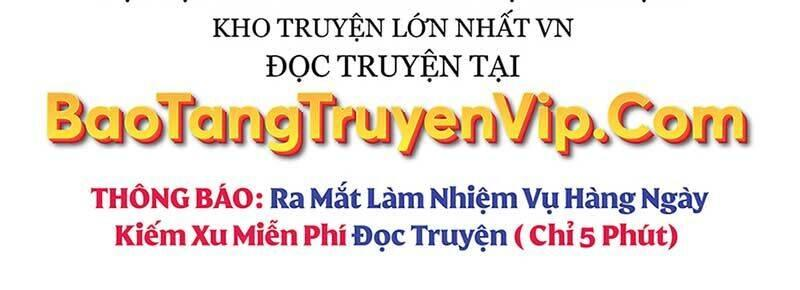quangcao: (1, 1, 758, 257)
